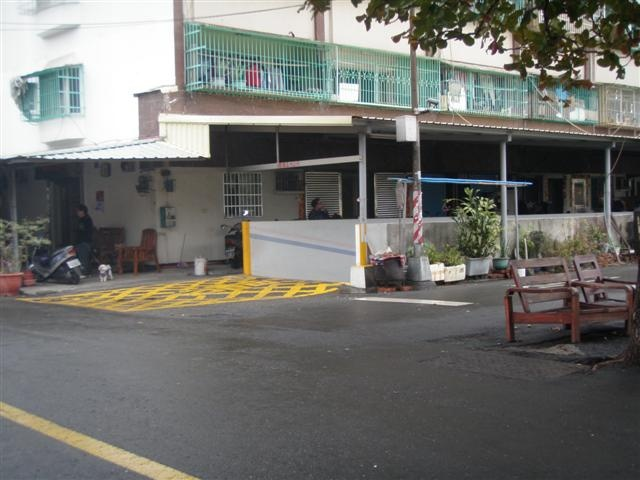bucket: (191, 258, 210, 277)
